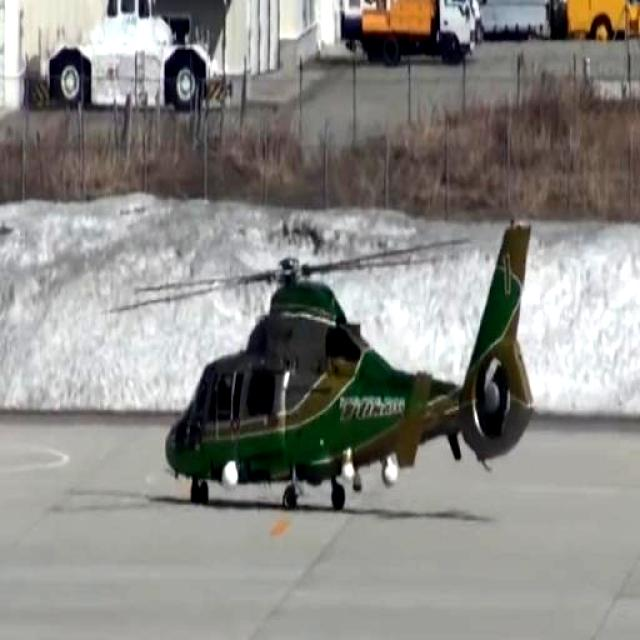drone: (158, 209, 538, 531)
